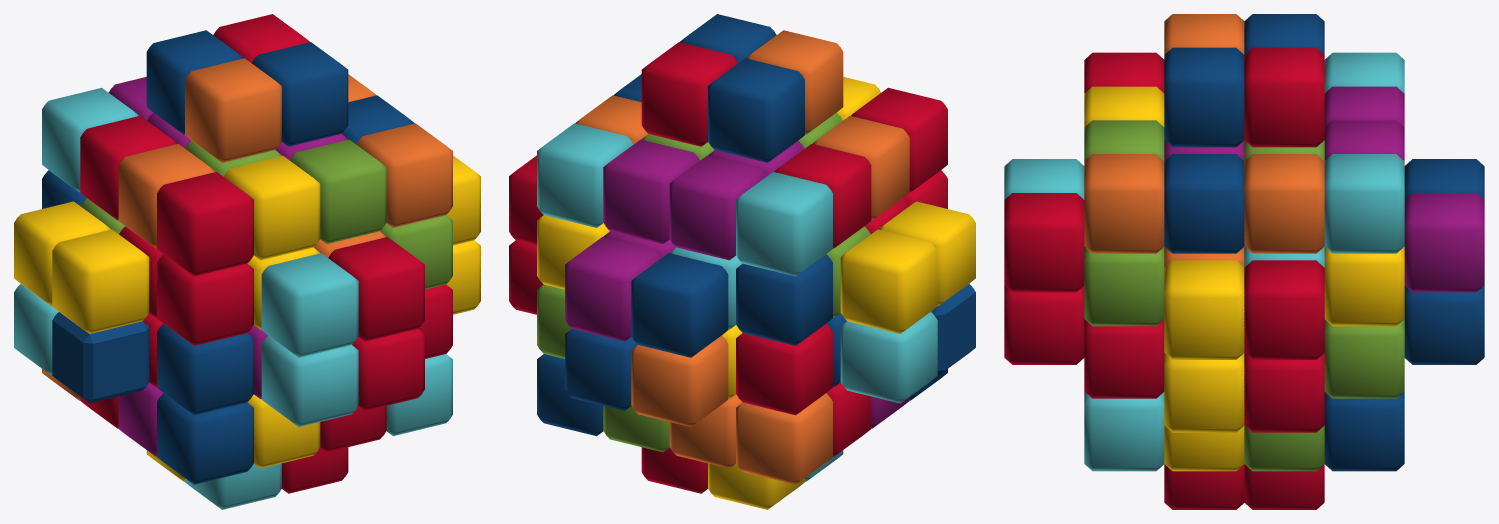
Rendered from PRP_Cubes_03.FBX.
The picture shows the model from 3 angles, left to right: view 1: azimuth 30°, elevation 25°; view 2: azimuth 150°, elevation 25°; view 3: azimuth 270°, elevation 25°; orthographic projection. The views are drawn at different scales.
Parts seen in each view (by area): view 1: PRP_Cubes_87, PRP_Cubes_19, PRP_Cubes_86, PRP_Cubes_116, PRP_Cubes_20, PRP_Cubes_70, PRP_Cubes_47, Object001, PRP_Cubes_43, PRP_Cubes_42, PRP_Cubes_71, PRP_Cubes_111 (+22 smaller); view 2: PRP_Cubes_189, PRP_Cubes_116, PRP_Cubes_199, PRP_Cubes_188, PRP_Cubes_106, PRP_Cubes_146, PRP_Cubes_194, PRP_Cubes_128, PRP_Cubes_152, PRP_Cubes_158, PRP_Cubes_149, PRP_Cubes_107 (+24 smaller); view 3: PRP_Cubes_91, PRP_Cubes_127, PRP_Cubes_20, PRP_Cubes_189, PRP_Cubes_71, PRP_Cubes_107, PRP_Cubes_43, PRP_Cubes_78, PRP_Cubes_114, PRP_Cubes_149, PRP_Cubes_60, PRP_Cubes_49 (+20 smaller).
Part boxes in pixels (x1,y1,x2,y2): PRP_Cubes_87: (119,172,253,387); PRP_Cubes_19: (261,253,358,426); PRP_Cubes_86: (157,323,253,484); PRP_Cubes_116: (14,201,149,333); PRP_Cubes_20: (328,237,424,410); PRP_Cubes_70: (185,58,281,162); PRP_Cubes_47: (223,155,320,329); Object001: (52,312,149,403); PRP_Cubes_43: (356,123,452,227); PRP_Cubes_42: (290,139,386,243); PRP_Cubes_71: (252,42,348,146); PRP_Cubes_111: (80,116,177,220); PRP_Cubes_189: (565,139,804,341); PRP_Cubes_116: (840,201,975,333); PRP_Cubes_199: (669,393,832,484); PRP_Cubes_188: (631,253,728,357); PRP_Cubes_106: (708,58,804,162); PRP_Cubes_146: (736,172,832,276); PRP_Cubes_194: (631,335,728,426); PRP_Cubes_128: (840,312,937,403); PRP_Cubes_152: (736,254,832,345); PRP_Cubes_158: (736,323,832,415); PRP_Cubes_149: (537,123,633,227); PRP_Cubes_107: (641,42,737,146); PRP_Cubes_91: (1164,260,1244,432); PRP_Cubes_127: (1244,260,1324,432); PRP_Cubes_20: (1004,193,1084,364); PRP_Cubes_189: (1324,86,1484,292); PRP_Cubes_71: (1164,47,1244,147); PRP_Cubes_107: (1244,47,1324,147); PRP_Cubes_43: (1084,154,1164,253); PRP_Cubes_78: (1164,154,1244,253); PRP_Cubes_114: (1244,154,1324,253); PRP_Cubes_149: (1324,154,1404,253); PRP_Cubes_60: (1164,464,1324,509); PRP_Cubes_49: (1084,246,1164,326).
Size of the model in its own units: 60 by 60 by 60.
